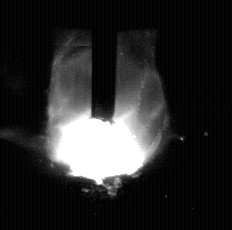arame: (92, 0, 117, 124)
poca: (46, 0, 167, 230)
